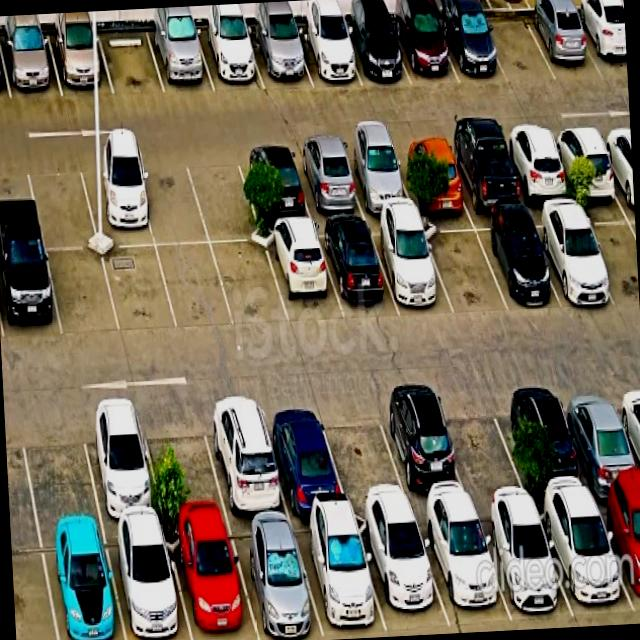empty: (438, 384, 531, 506), (318, 394, 411, 510), (139, 403, 228, 523), (17, 405, 101, 529), (420, 218, 508, 314), (184, 148, 262, 243), (25, 157, 99, 249), (135, 154, 209, 245), (102, 246, 178, 334), (157, 245, 234, 331), (212, 243, 289, 326), (47, 250, 120, 337), (580, 204, 640, 307), (480, 12, 556, 85), (98, 29, 165, 94)
occupied: (535, 497, 637, 624), (291, 514, 388, 640), (375, 388, 474, 510), (227, 520, 325, 640), (475, 504, 574, 622), (415, 508, 512, 626), (355, 513, 451, 631), (164, 521, 258, 640), (200, 395, 289, 519), (259, 397, 349, 515), (508, 381, 594, 502), (78, 404, 164, 524), (104, 524, 192, 640), (40, 527, 125, 640), (558, 380, 640, 497), (527, 206, 617, 305), (472, 215, 560, 310), (263, 225, 344, 325), (368, 220, 454, 314), (316, 221, 399, 318), (78, 156, 155, 247), (444, 133, 524, 211), (236, 146, 313, 224), (0, 246, 62, 341), (594, 492, 640, 615), (291, 143, 365, 219), (339, 141, 415, 214), (501, 128, 574, 203), (393, 137, 469, 209), (524, 11, 603, 80), (550, 126, 622, 198), (436, 13, 508, 84), (390, 14, 460, 86), (341, 19, 411, 86), (195, 27, 265, 92), (147, 28, 215, 93), (48, 31, 114, 97), (293, 25, 362, 87), (0, 33, 62, 99), (248, 27, 312, 89), (572, 8, 628, 77)
